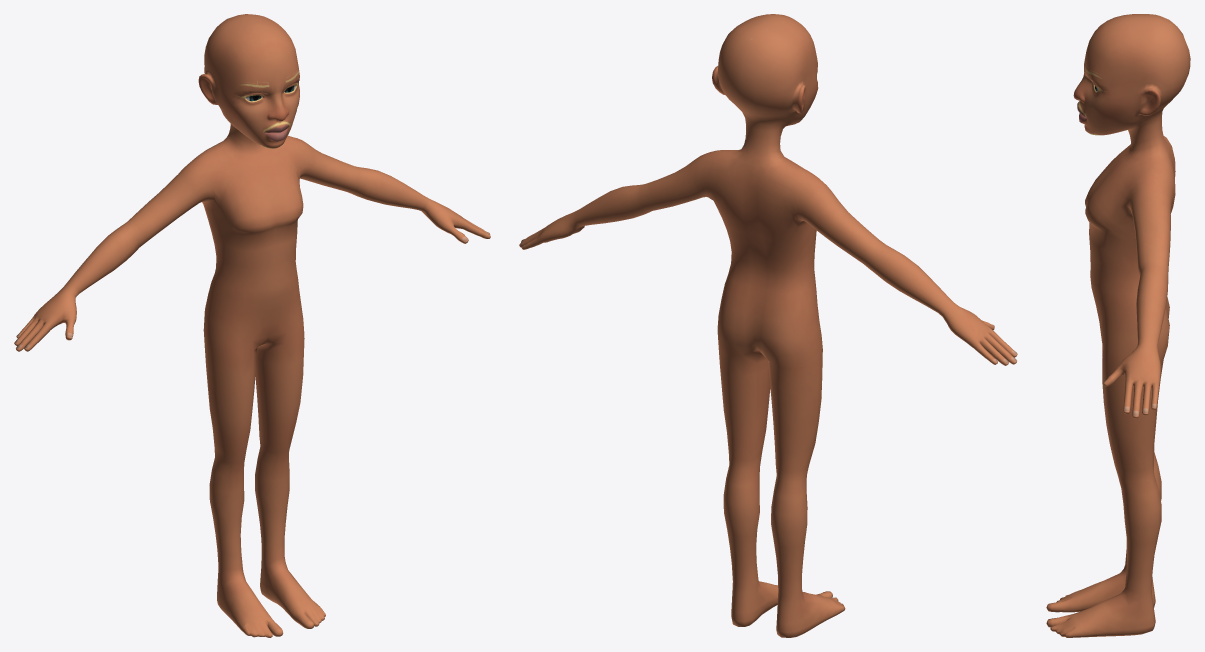
The model's file is frame_0048.glb.
The picture shows the model from 3 angles, left to right: view 1: azimuth 30°, elevation 25°; view 2: azimuth 150°, elevation 25°; view 3: azimuth 270°, elevation 25°; orthographic projection. The views are drawn at different scales.
Parts seen in each view (by area): view 1: frame_0048_head_geo; view 2: frame_0048_head_geo; view 3: frame_0048_head_geo.
Part boxes in pixels (x1,y1,x2,y2): frame_0048_head_geo: (14,14,490,637); frame_0048_head_geo: (519,14,1017,637); frame_0048_head_geo: (1046,14,1190,637).
Bounding box in the file's own units: 1.28 × 1.5 × 0.3253.
Materials: 3 (3 with a texture image).
